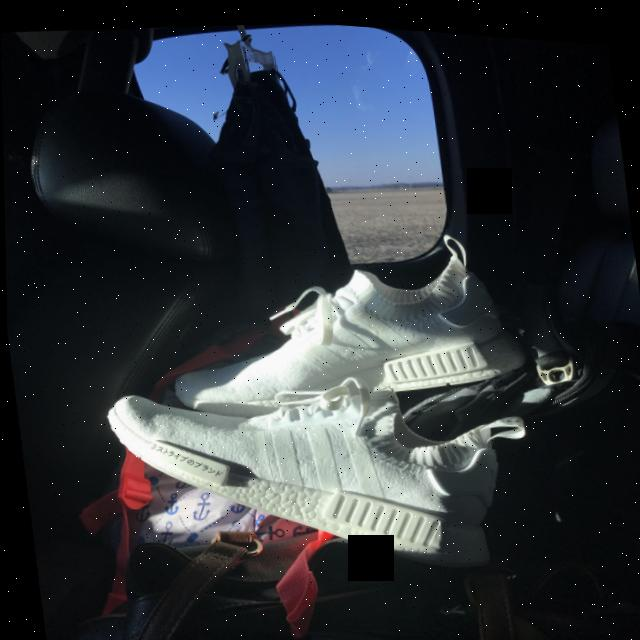shoes: (100, 353, 513, 599), (153, 223, 514, 424)
